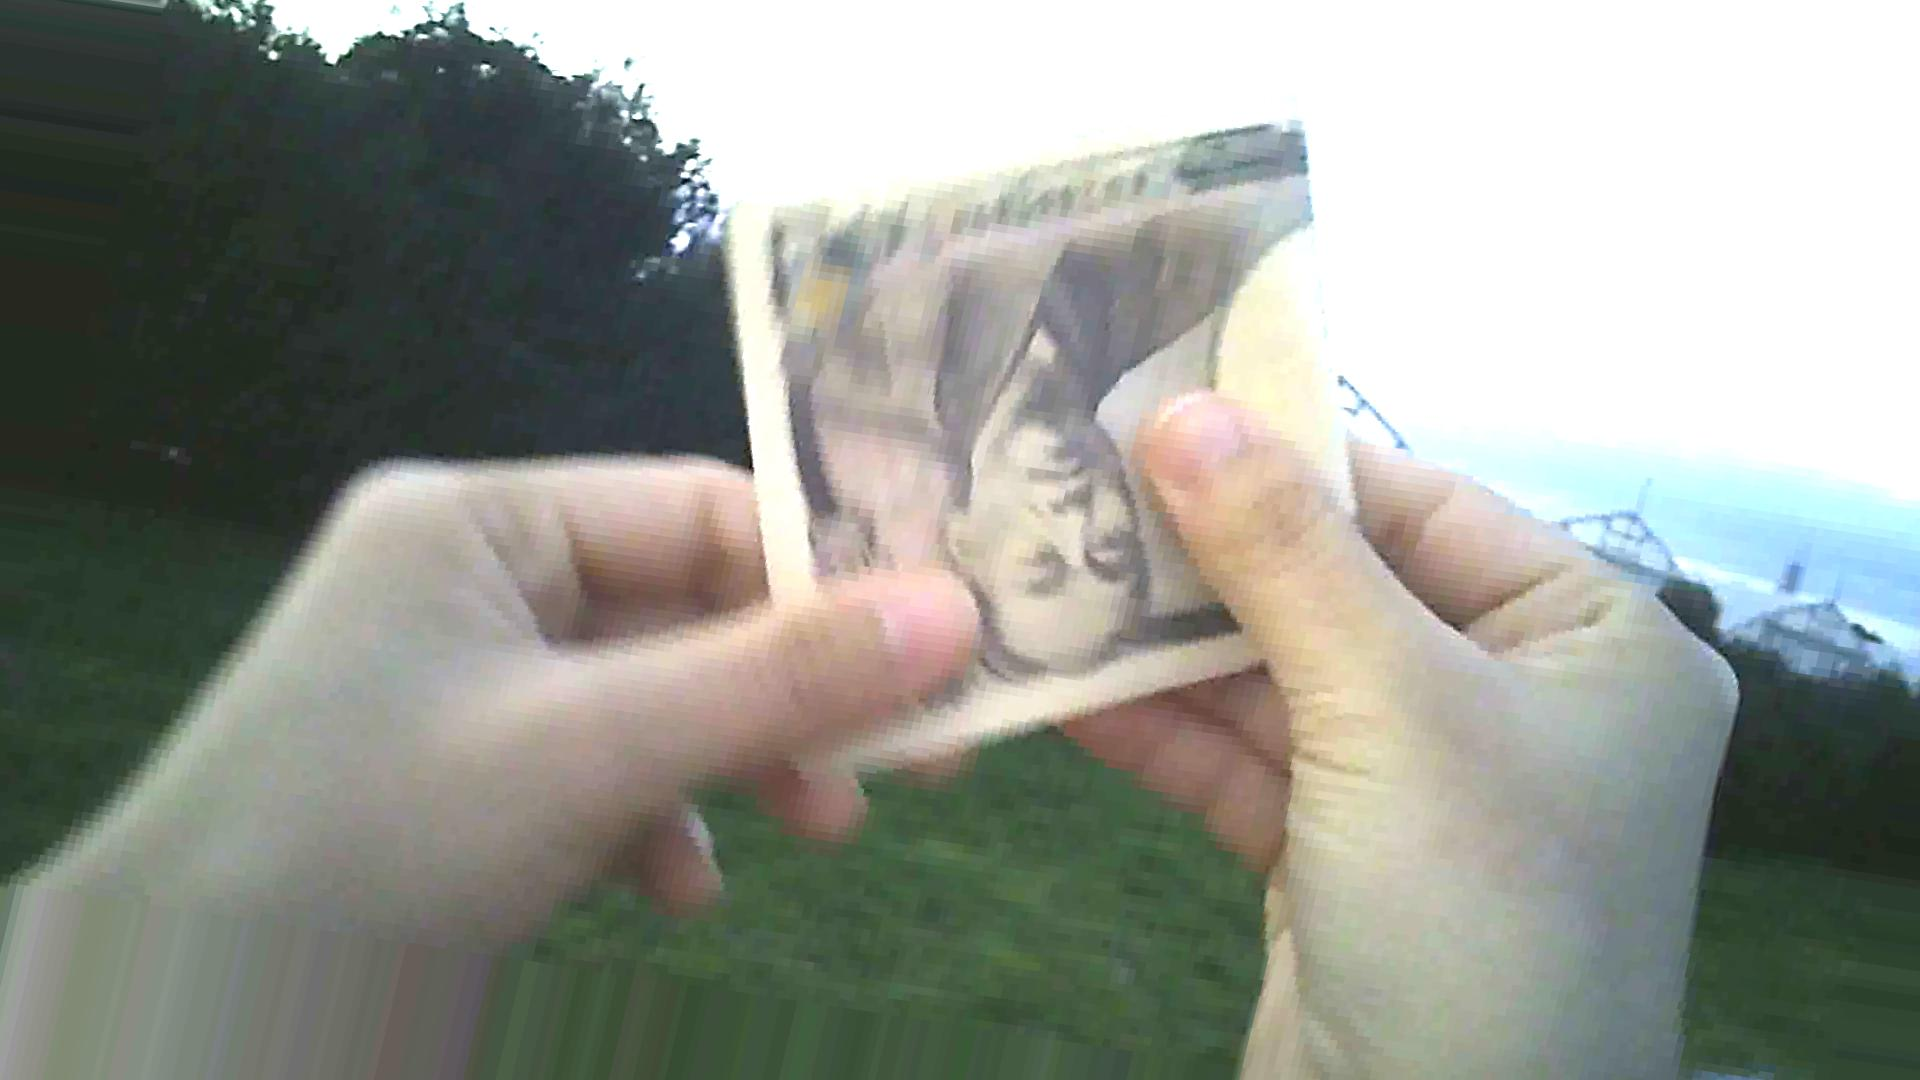10,000 Yen: (705, 88, 1367, 789)
